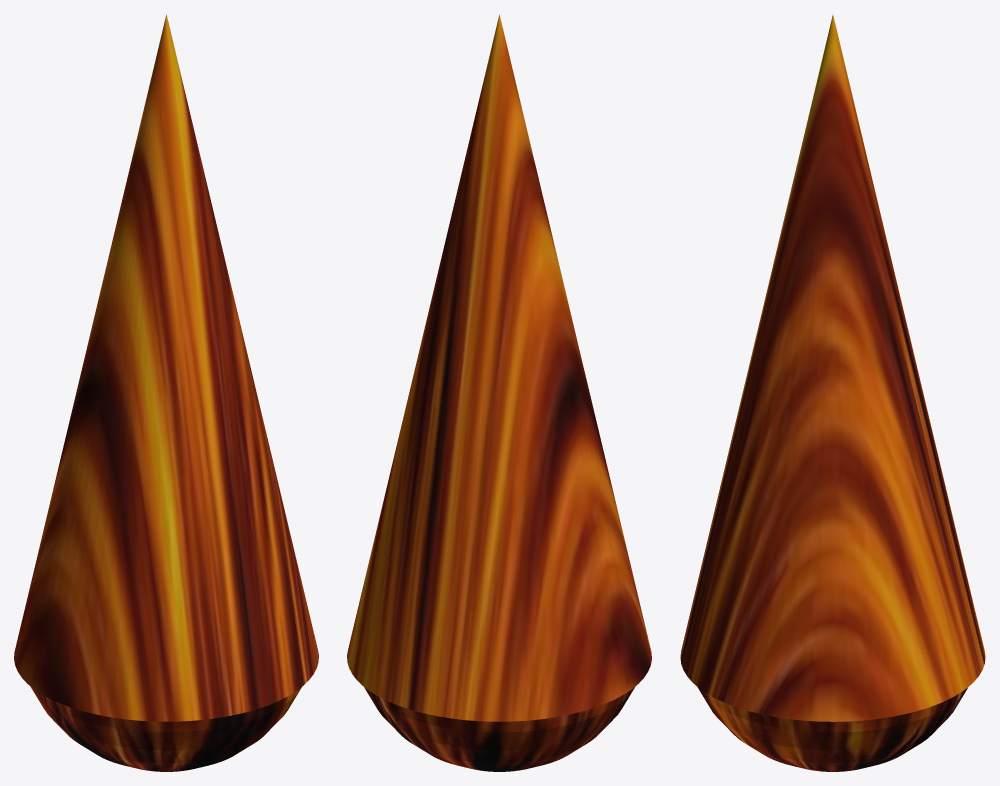
Rendered from flame.obj.
3 renders of one model, left to right at view 1: azimuth 30°, elevation 25°; view 2: azimuth 150°, elevation 25°; view 3: azimuth 270°, elevation 25°, orthographic.
Visible parts, largest first — view 1: Cone; view 2: Cone; view 3: Cone.
Boxes of the visible parts, bbox=[...] form: Cone: bbox=[14, 14, 318, 771]; Cone: bbox=[347, 14, 651, 771]; Cone: bbox=[680, 15, 985, 771].
Bounding box in the file's own units: 0.2171 × 0.5842 × 0.2171.
